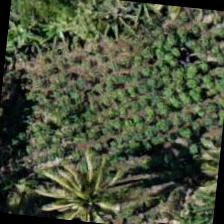Kelapa_Sawit: (45, 146, 144, 223)
